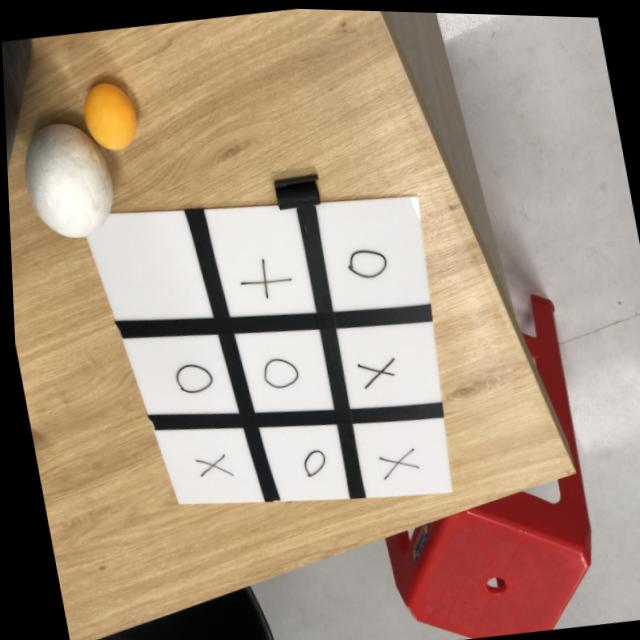null: (80, 196, 210, 343)
o: (338, 233, 389, 286), (164, 353, 216, 400), (251, 352, 302, 399), (291, 439, 326, 481)
table: (82, 181, 448, 527)
x: (235, 254, 293, 299), (366, 436, 419, 485), (348, 346, 397, 395), (184, 444, 235, 488)
